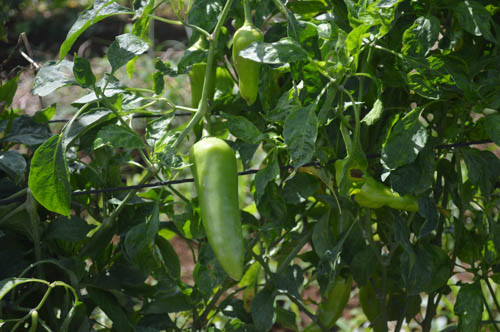ChiliPepper: (184, 139, 253, 284), (348, 173, 420, 220), (229, 21, 263, 109), (188, 61, 219, 143), (315, 267, 352, 332), (357, 277, 396, 332)
